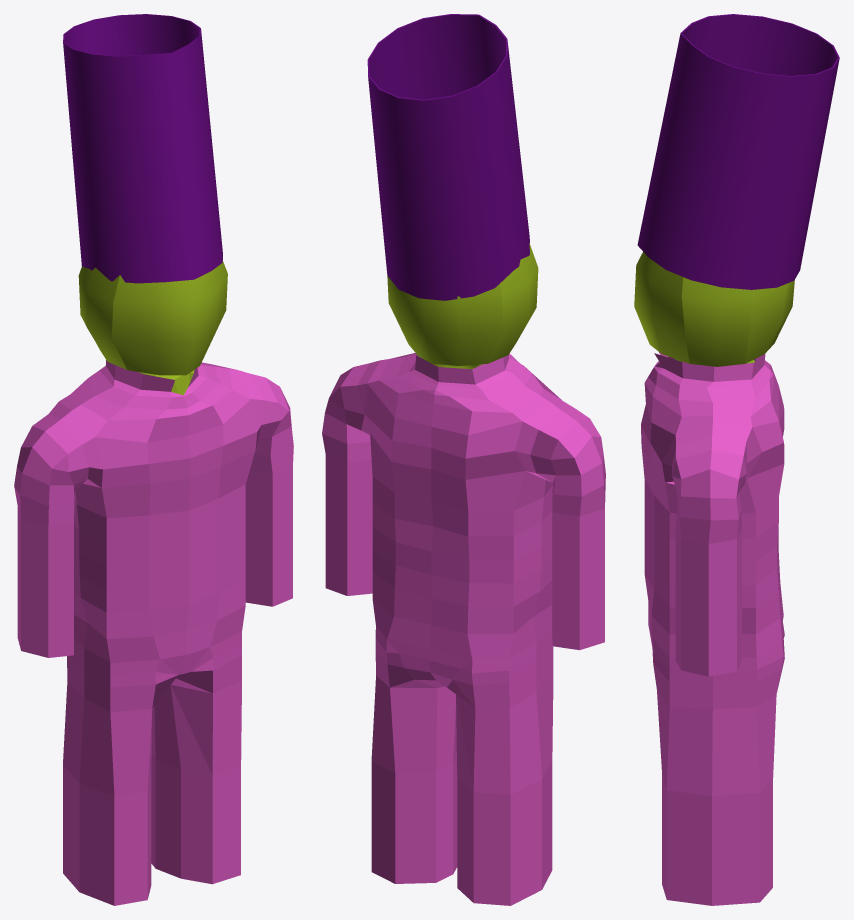
File: chef.obj
3 renders of one model, left to right at view 1: azimuth 30°, elevation 25°; view 2: azimuth 150°, elevation 25°; view 3: azimuth 270°, elevation 25°, orthographic.
Visible parts, largest first — view 1: Cylinder001, Line001, Box001; view 2: Cylinder001, Line001, Box001; view 3: Cylinder001, Line001, Box001.
Boxes of the visible parts, x1,y1,x2,y2 form: Cylinder001: (14,360,293,905); Line001: (63,14,222,283); Box001: (78,261,227,395); Cylinder001: (322,353,605,905); Line001: (367,14,529,300); Box001: (387,243,538,369); Cylinder001: (641,351,784,905); Line001: (637,14,839,289); Box001: (634,252,794,366).
Bounding box in the file's own units: 18.1 × 52.95 × 11.78.
